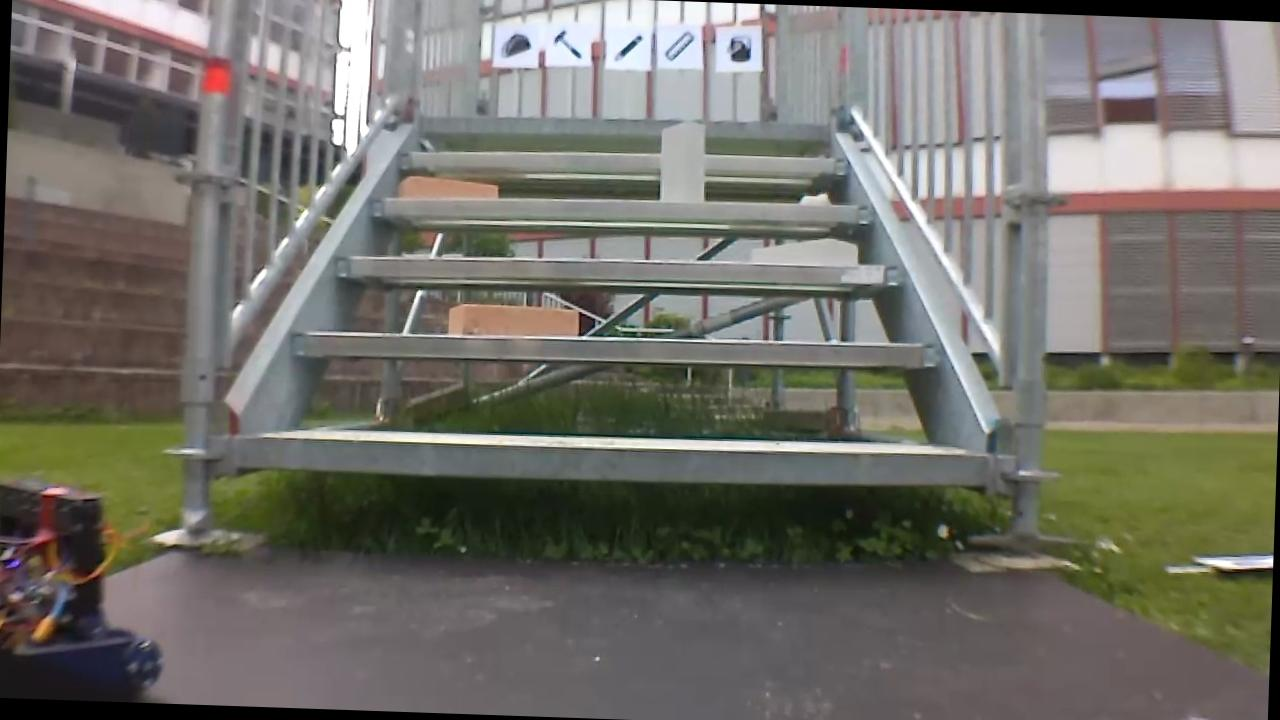brick: (445, 303, 577, 338), (659, 119, 703, 201), (399, 174, 496, 201)
bucket: (722, 31, 754, 66)
edge: (233, 426, 991, 493), (292, 321, 937, 375), (334, 246, 902, 293), (367, 187, 874, 231), (399, 143, 846, 179), (418, 108, 831, 142)
hammer: (546, 26, 583, 60)
pencil: (606, 29, 644, 63)
ruler: (661, 25, 698, 62)
steps: (223, 97, 1010, 501)
taco: (496, 29, 534, 62)
